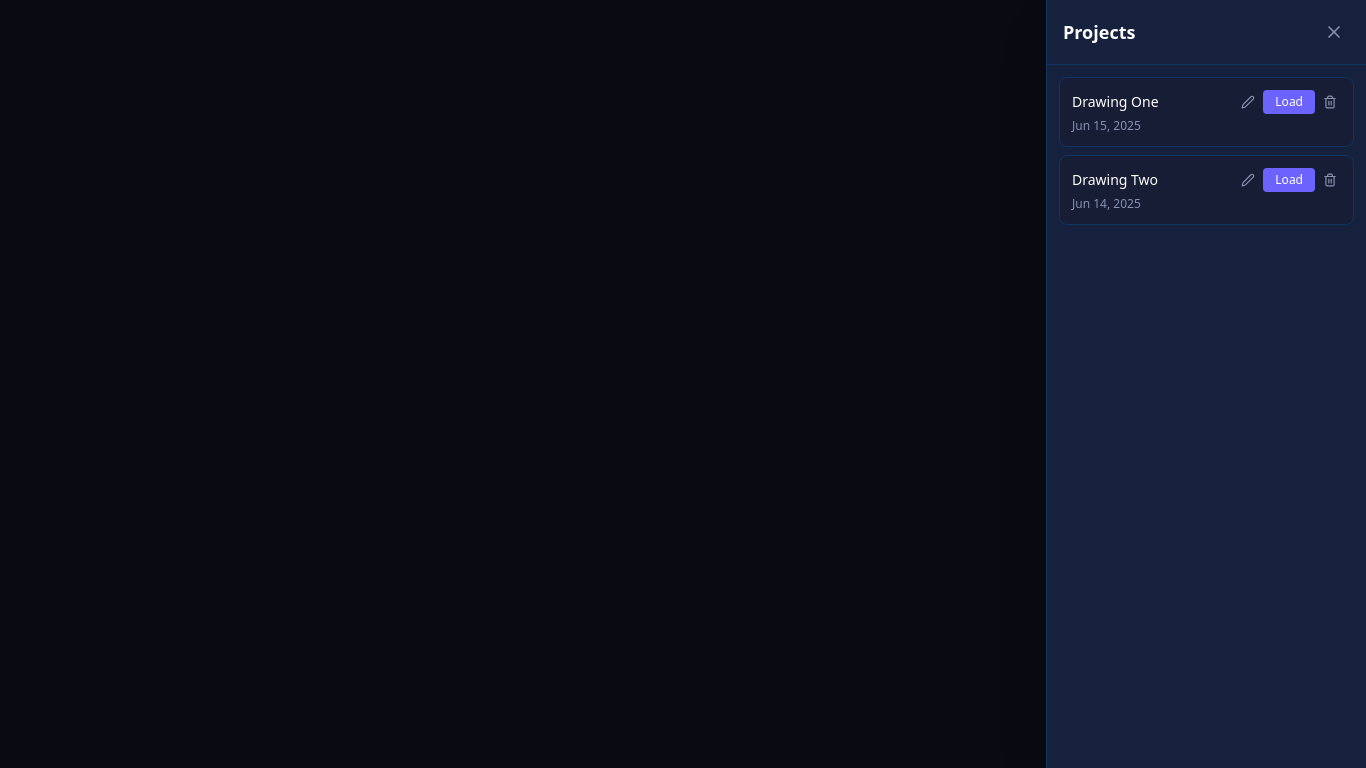
ProjectListSidebar › clicking edit icon turns project name into an input
Expected: the heading "Drawing One" is shown, [1072,92,1159,111]
// Click the rename (edit) button
Step 1. Click the button named "Rename Drawing One" → (1248, 102), box [1237,91,1259,113]
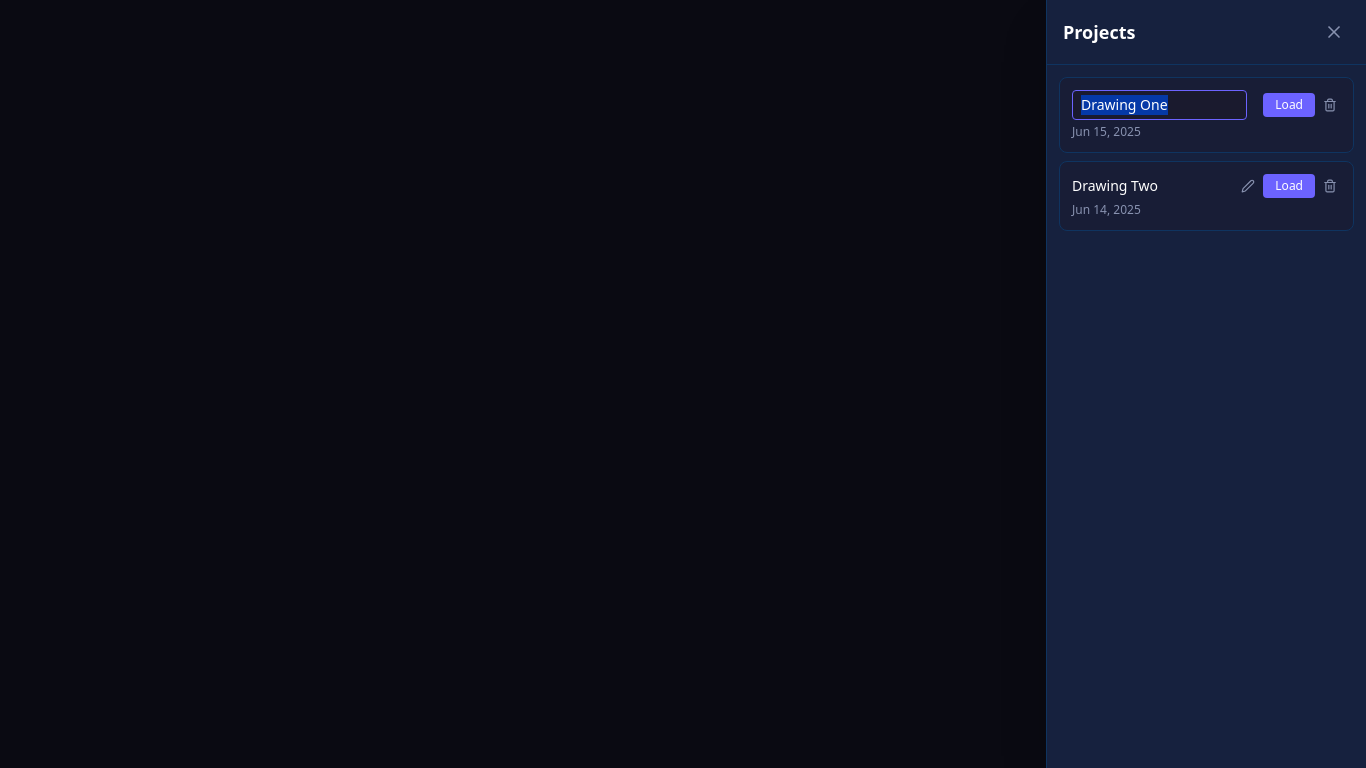
Result: the field with test id "rename-input-1" is shown at [1072,90,1247,120]
